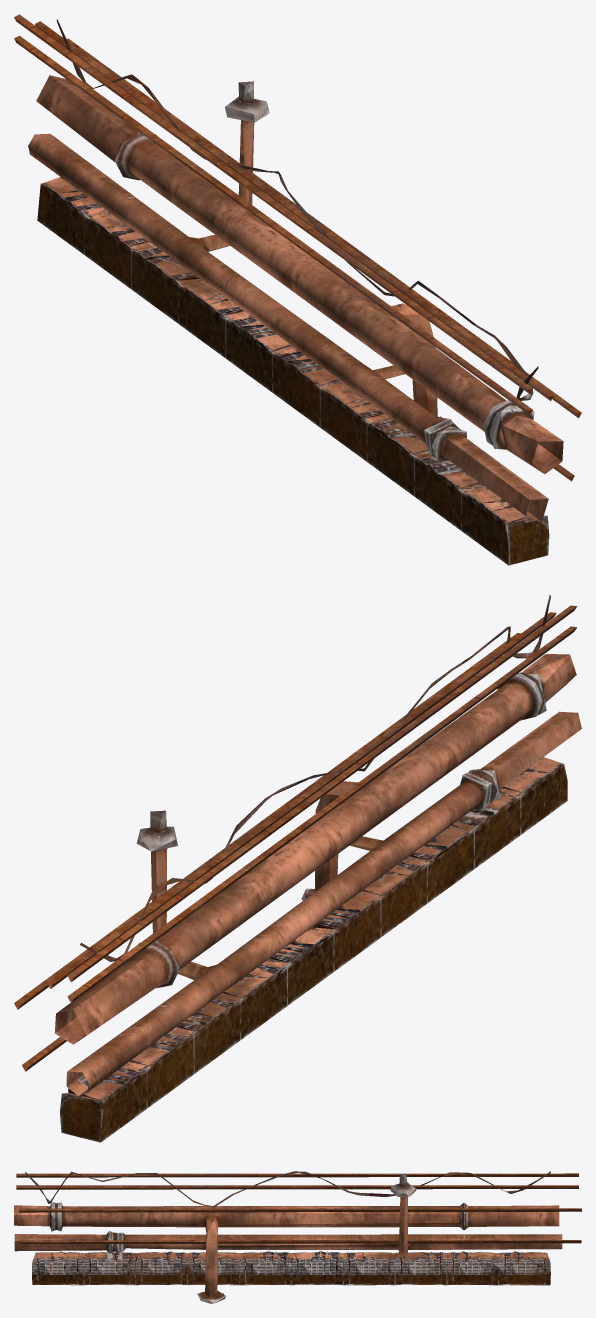
File: copper_pipe_section.glb
3 views of the same model, one above another, from view 1: azimuth 30°, elevation 25°; view 2: azimuth 150°, elevation 25°; view 3: azimuth 270°, elevation 25° (orthographic). The views are drawn at different scales.
Parts seen in each view (by area): view 1: copper_pipe_section; view 2: copper_pipe_section; view 3: copper_pipe_section.
Part boxes in pixels (x1,y1,x2,y2): copper_pipe_section: (14,14,581,565); copper_pipe_section: (14,594,581,1142); copper_pipe_section: (14,1171,581,1303).
Size of what is drawn, in the model's own units: 0.0596 by 0.122 by 0.5.
1 material, 1 textured.
